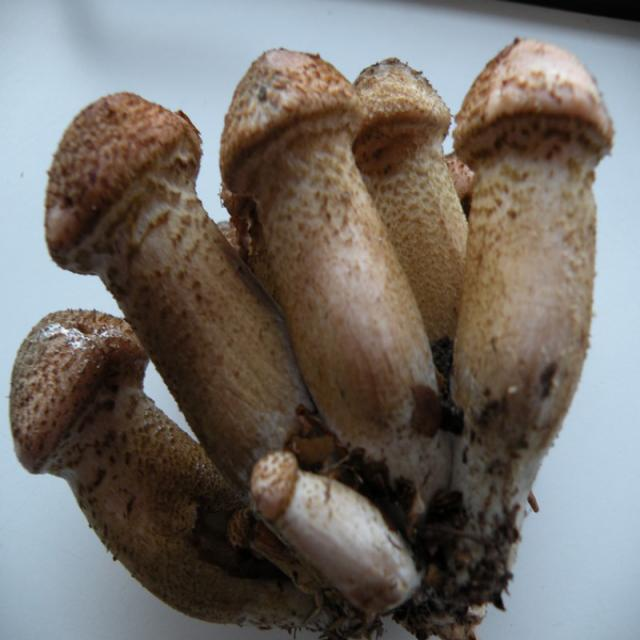Armillaria mellea: (11, 42, 614, 638)
